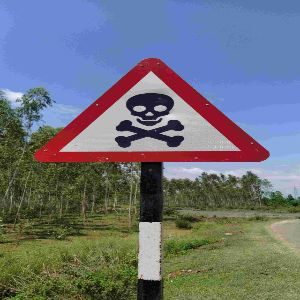Accident prone area: (26, 49, 273, 174)
